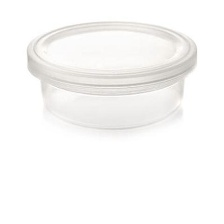plastic_box: (19, 13, 203, 136)
